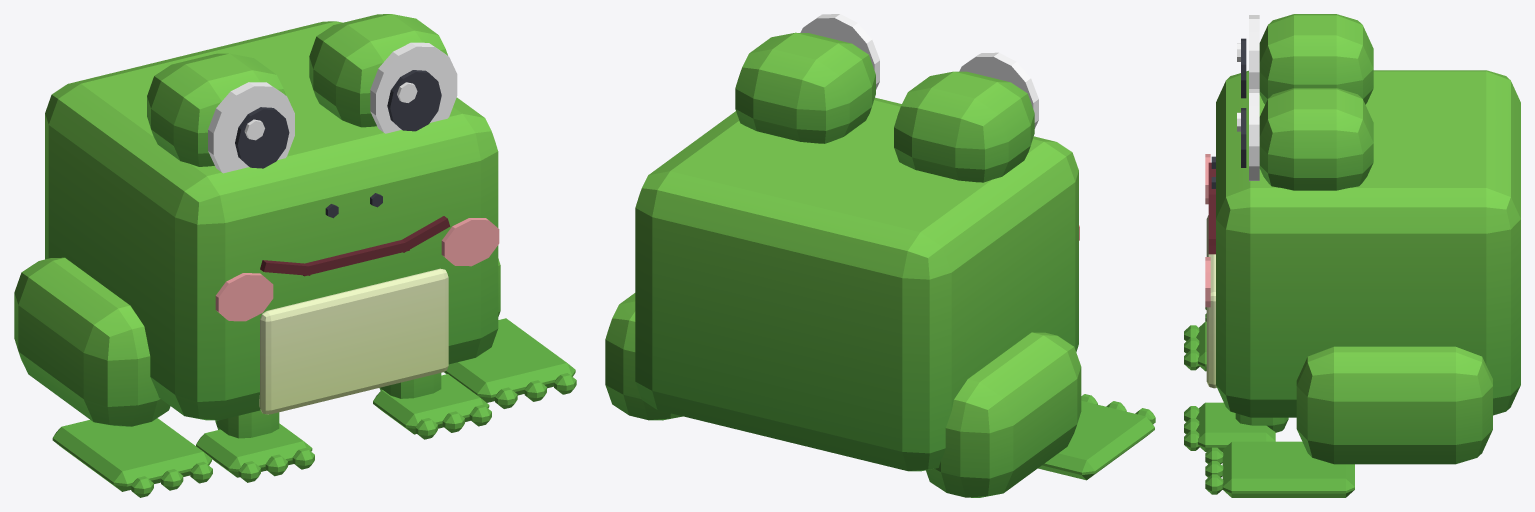
File: frog.glb
3 views of the same model, side by side, from view 1: azimuth 30°, elevation 25°; view 2: azimuth 150°, elevation 25°; view 3: azimuth 270°, elevation 25° (orthographic). The views are drawn at different scales.
Visible parts, largest first — view 1: body, leg-back-right, leg-back-left, leg-front-right, leg-front-left; view 2: body, leg-back-right, leg-back-left; view 3: body, leg-back-left, leg-front-left, leg-front-right.
Part boxes in pixels (x1,y1,x2,y2): body: [45, 14, 499, 420]; leg-back-right: [14, 257, 212, 497]; leg-back-left: [444, 258, 576, 408]; leg-front-right: [196, 410, 314, 482]; leg-front-left: [373, 373, 491, 439]; body: [635, 14, 1079, 471]; leg-back-right: [926, 332, 1155, 497]; leg-back-left: [605, 293, 682, 420]; body: [1205, 14, 1520, 417]; leg-back-left: [1205, 346, 1492, 497]; leg-front-left: [1184, 402, 1288, 451]; leg-front-right: [1184, 321, 1206, 371].
Size of the model in its own units: 1.88 by 1.42 by 1.27.
Materials: 1 (1 with a texture image).
